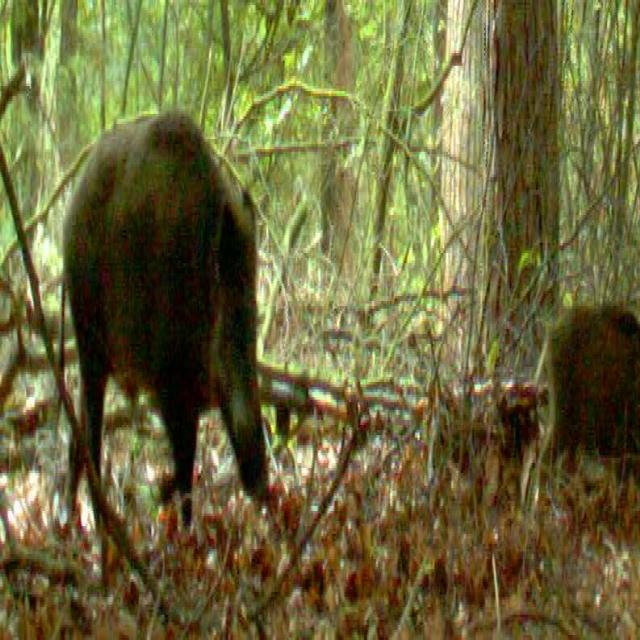pig: (58, 54, 280, 570)
